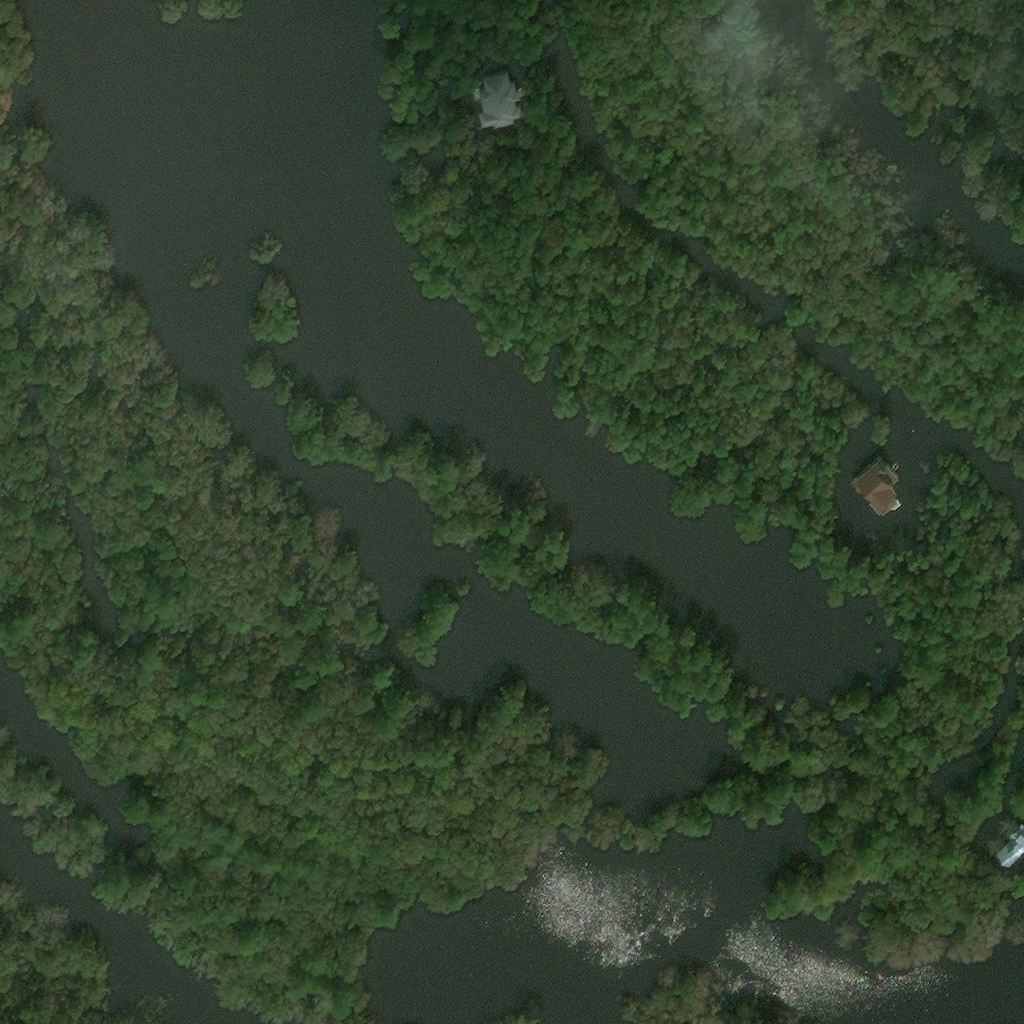major_damage: (849, 453, 897, 510), (471, 67, 518, 124), (993, 816, 1022, 862)
